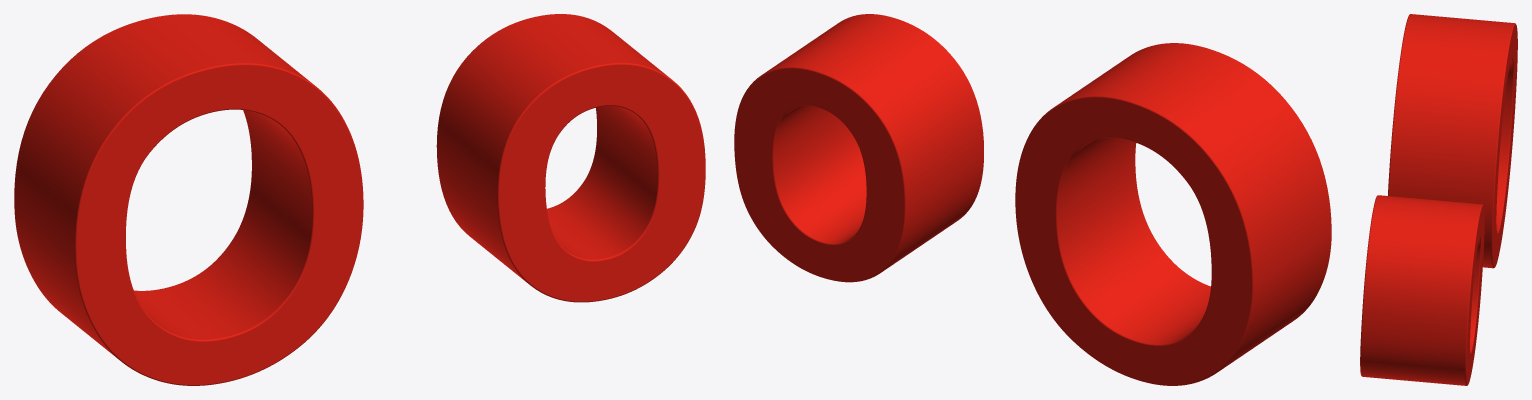
The model's file is ObjectO.fbx.
The picture shows the model from 3 angles, left to right: view 1: azimuth 30°, elevation 25°; view 2: azimuth 150°, elevation 25°; view 3: azimuth 270°, elevation 25°; orthographic projection. The views are drawn at different scales.
Parts seen in each view (by area): view 1: Text; view 2: Text; view 3: Text.
Boxes of the visible parts, x1,y1,x2,y2 form: Text: (14,14,705,385); Text: (734,14,1331,385); Text: (1360,14,1517,385).
Bounding box in the file's own units: 291 × 144 × 90.74.
